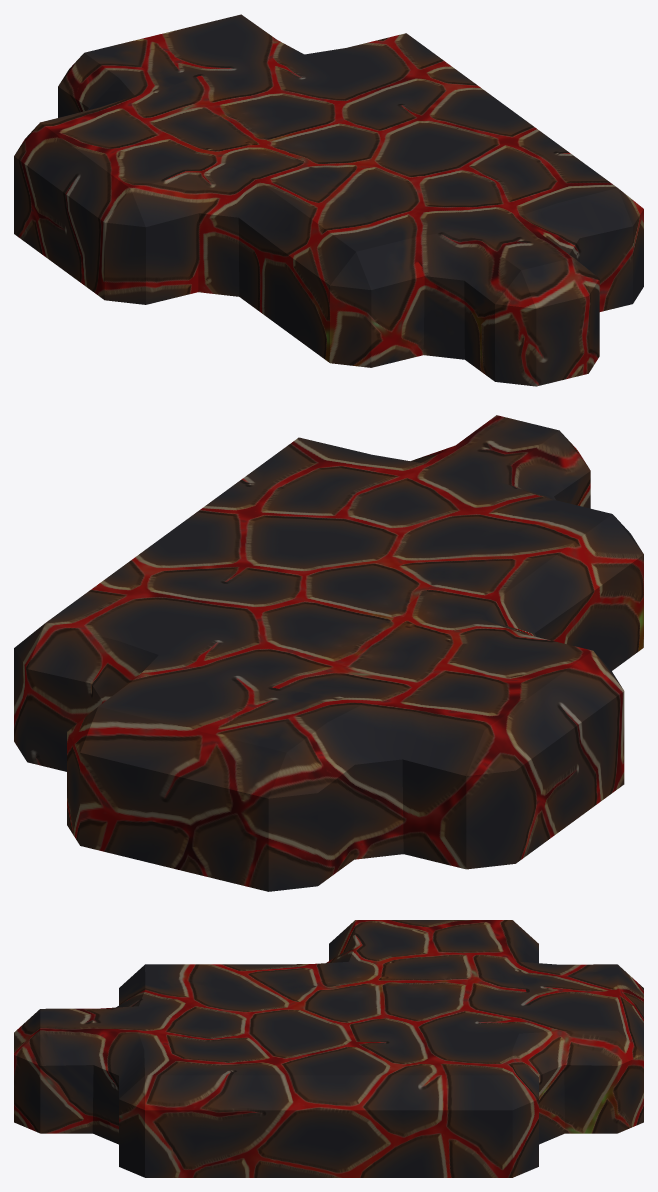
Rendered from IslandSmall2.fbx.
3 renders of one model, top to bottom at view 1: azimuth 30°, elevation 25°; view 2: azimuth 150°, elevation 25°; view 3: azimuth 270°, elevation 25°, orthographic. The views are drawn at different scales.
Visible parts, largest first — view 1: Small_Island2; view 2: Small_Island2; view 3: Small_Island2.
Boxes of the visible parts, x1,y1,x2,y2 form: Small_Island2: (14,14,643,386); Small_Island2: (14,415,643,891); Small_Island2: (14,920,643,1177).
Bounding box in the file's own units: 417 × 100 × 626.
